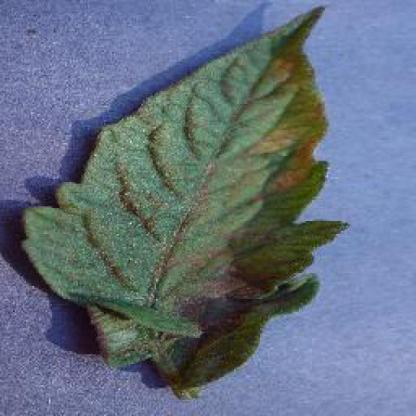Strawberry_Anthracnose_Fruit_Rot: (260, 158, 320, 198), (257, 54, 306, 91), (248, 127, 308, 156)
